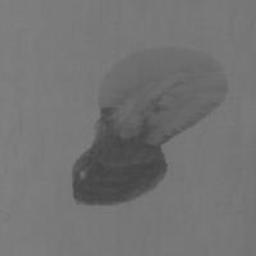Oil spot: (70, 46, 229, 207)
